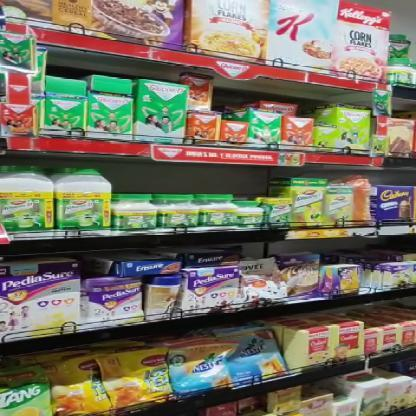Glucon D Nimbu Pani 1-KG: (331, 107, 370, 151)
Glucon D Regular 1-KG: (134, 80, 192, 142), (87, 94, 136, 138)
